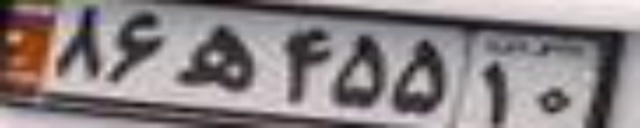0: (534, 86, 571, 116)
1: (480, 59, 515, 125)
4: (282, 27, 329, 104)
5: (390, 39, 449, 115), (332, 30, 383, 106)
6: (108, 12, 166, 82)
8: (53, 6, 99, 79)
he: (174, 22, 251, 93)
